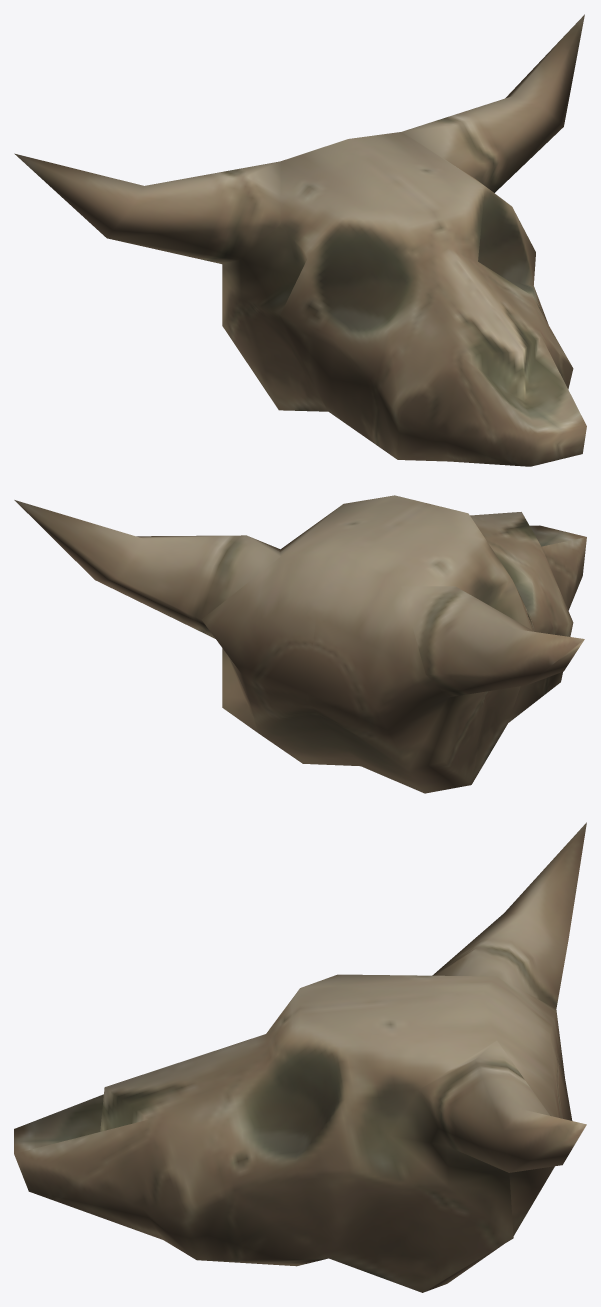
File: Bones_05.fbx
3 views of the same model, one above another, from view 1: azimuth 30°, elevation 25°; view 2: azimuth 150°, elevation 25°; view 3: azimuth 270°, elevation 25° (orthographic). The views are drawn at different scales.
Visible parts, largest first — view 1: polySurface654; view 2: polySurface654; view 3: polySurface654.
Boxes of the visible parts, left/top/right/bottom form: polySurface654: left=14, top=14, right=586, bottom=466; polySurface654: left=14, top=495, right=586, bottom=793; polySurface654: left=14, top=822, right=586, bottom=1292.
Size of the model in its own units: 1.27 by 0.5452 by 1.02.
Materials: 1 (1 with a texture image).
